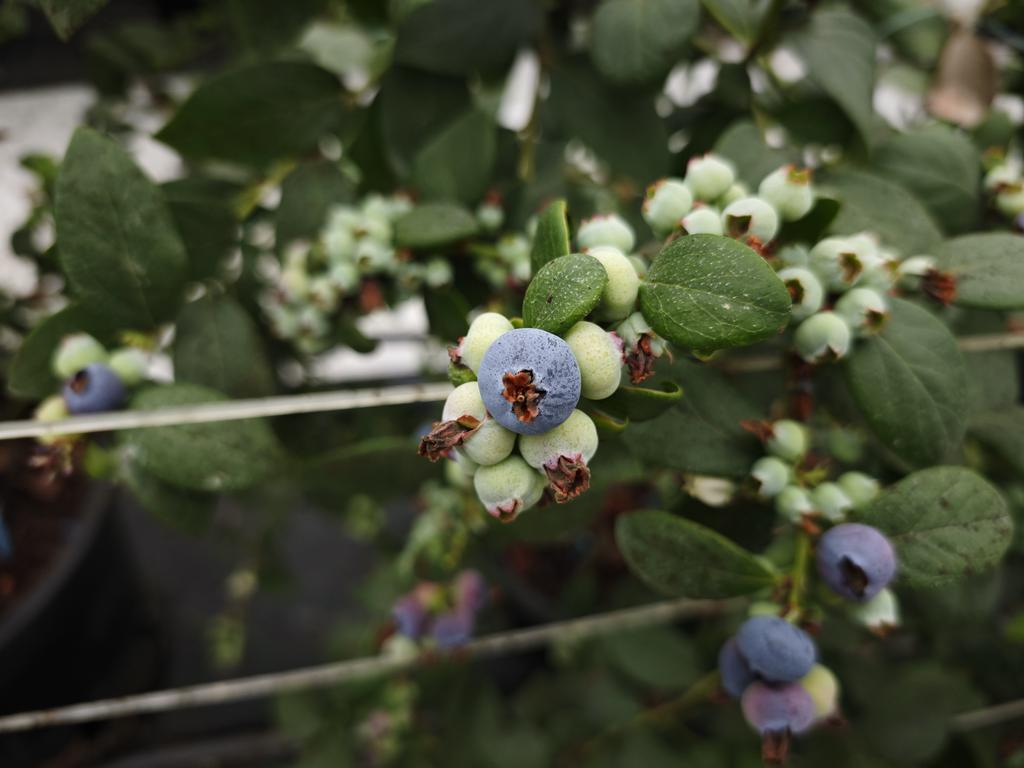RipeBlueBerry: (477, 325, 584, 436), (735, 613, 817, 686)
Semi-RipeBlueBerry: (737, 679, 818, 746)
